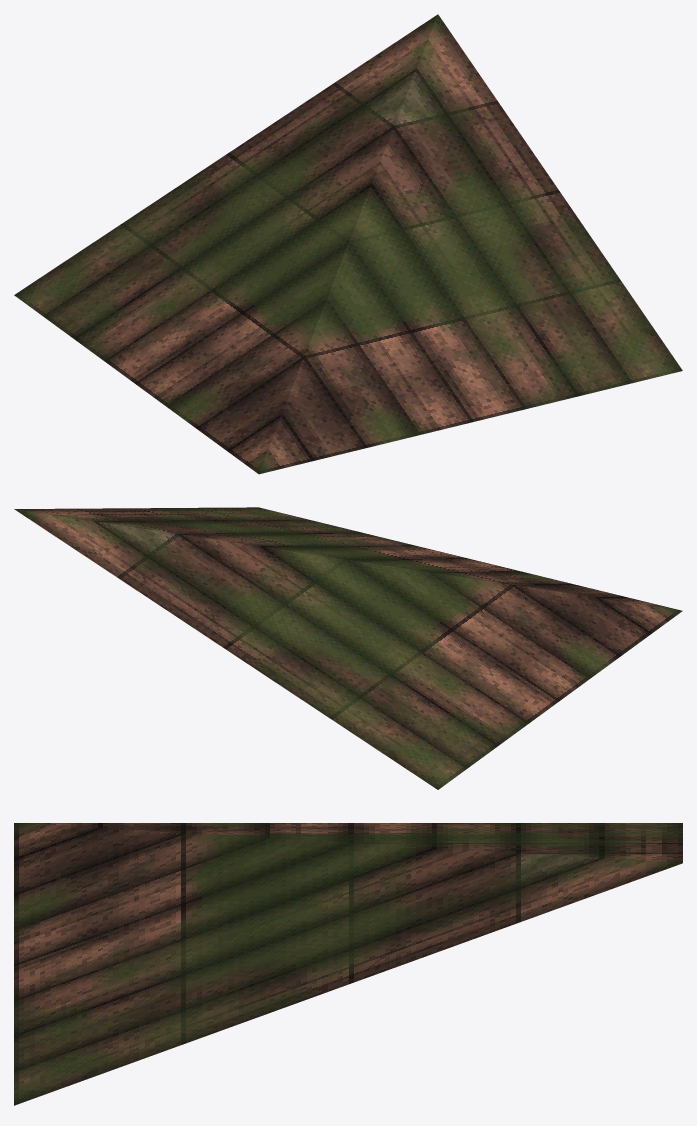
Rendered from roof_corner_outer.gltf.
The picture shows the model from 3 angles, top to bottom: view 1: azimuth 30°, elevation 25°; view 2: azimuth 150°, elevation 25°; view 3: azimuth 270°, elevation 25°; orthographic projection. The views are drawn at different scales.
Visible parts, largest first — view 1: roof_corner_outer-col; view 2: roof_corner_outer-col; view 3: roof_corner_outer-col.
Boxes of the visible parts, x1,y1,x2,y2 form: roof_corner_outer-col: [14, 14, 682, 474]; roof_corner_outer-col: [14, 507, 682, 789]; roof_corner_outer-col: [14, 823, 682, 1105].
Bounding box in the file's own units: 2 × 0.82 × 2.
2 materials, 2 textured.
